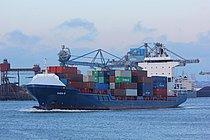Ship: (25, 64, 192, 113)
